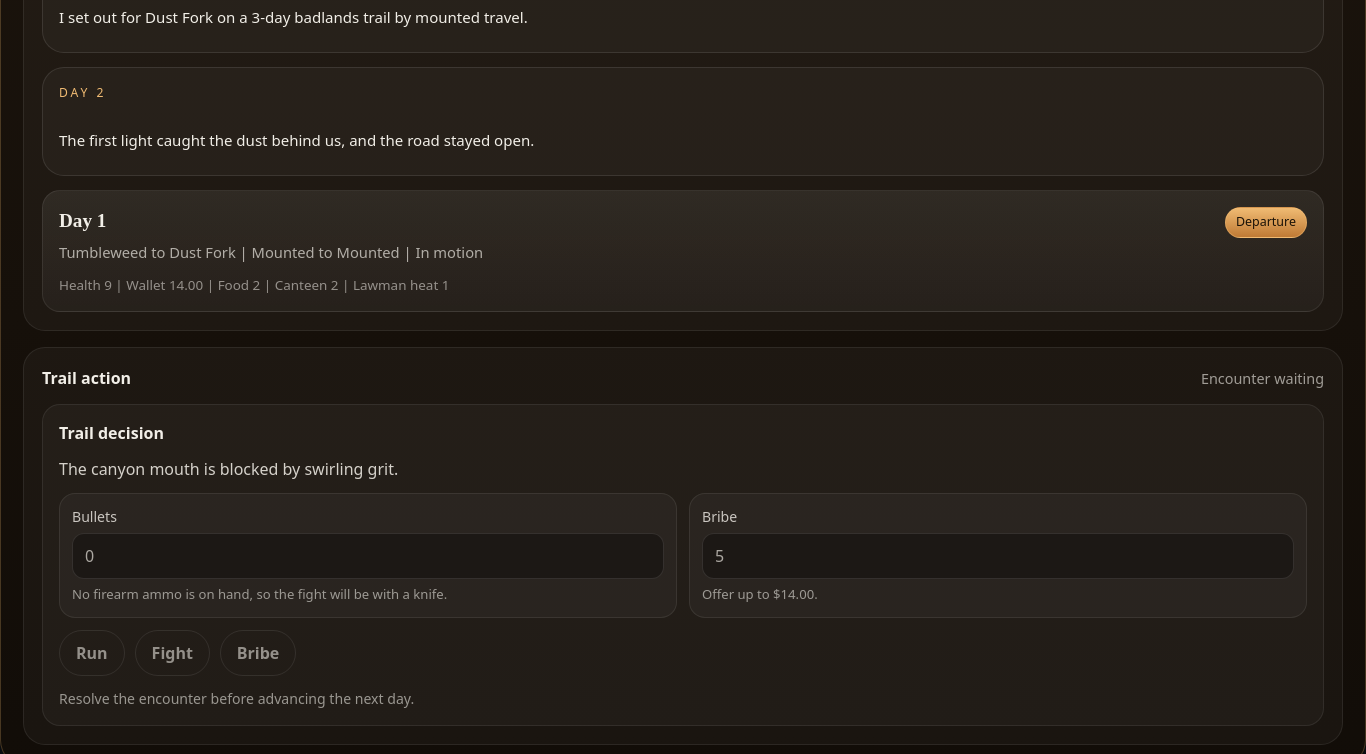
TravelPanel › submits a chosen bribe amount when resolving a bribe encounter
(page scrolled)
Replace the text in the number field labelled "Bribe" with "7.25" at (998, 556), box [702, 533, 1294, 579]
(page scrolled)
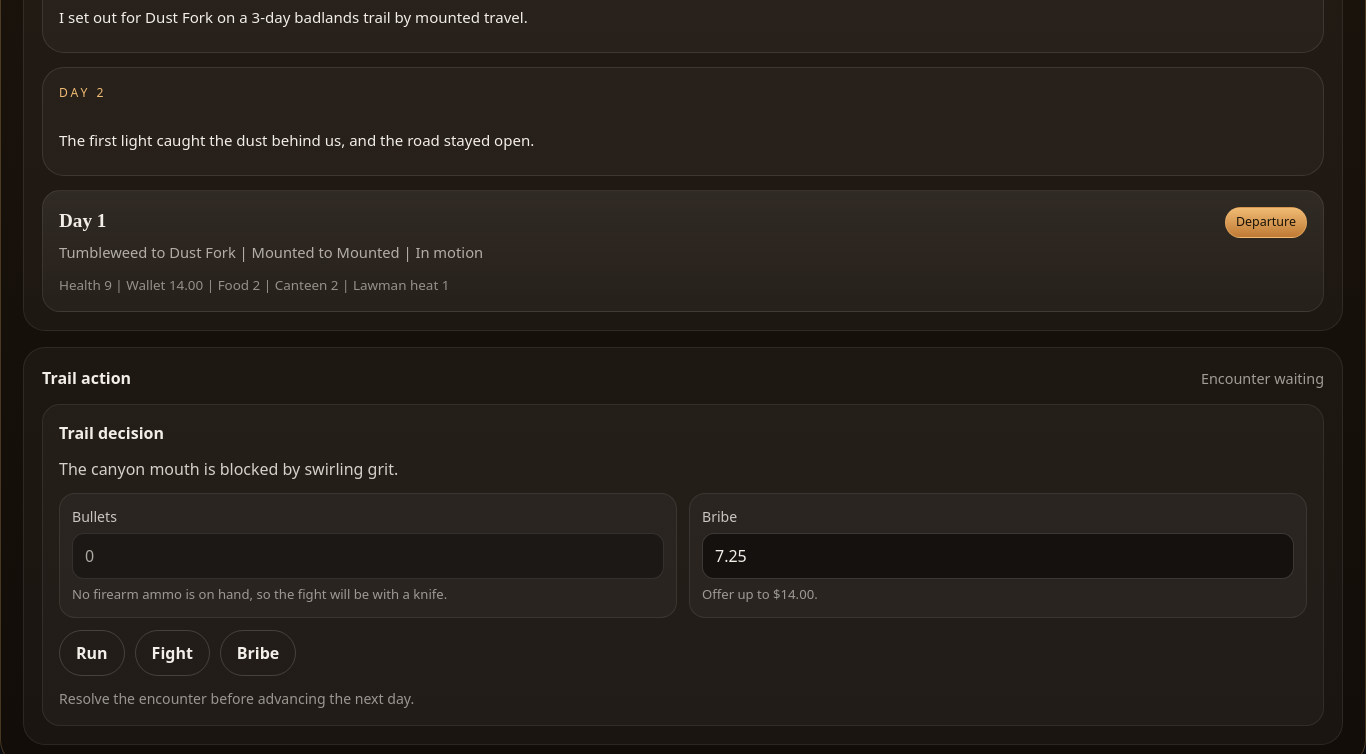
Click the button "Bribe" at (258, 653), box [220, 630, 296, 676]
(page scrolled)
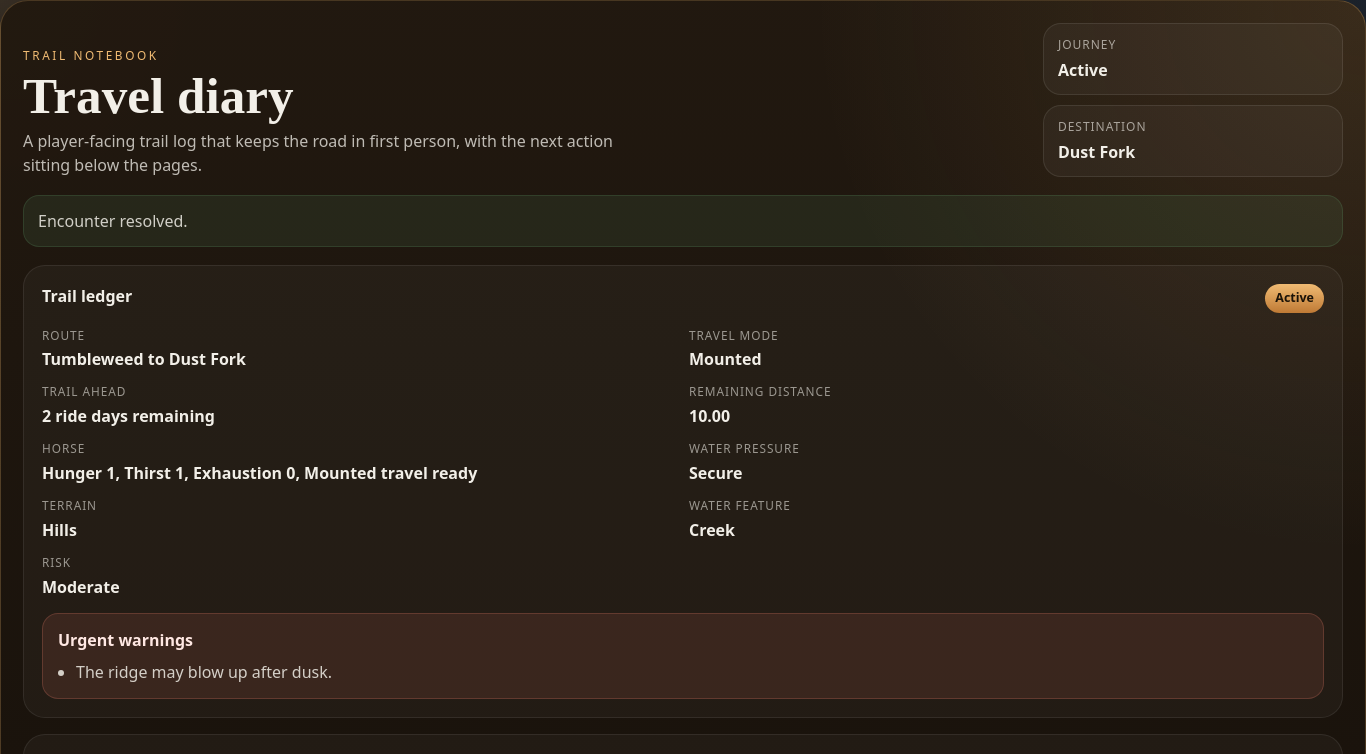
expect the text "Encounter resolved." is shown: met, box [23, 195, 1343, 247]
